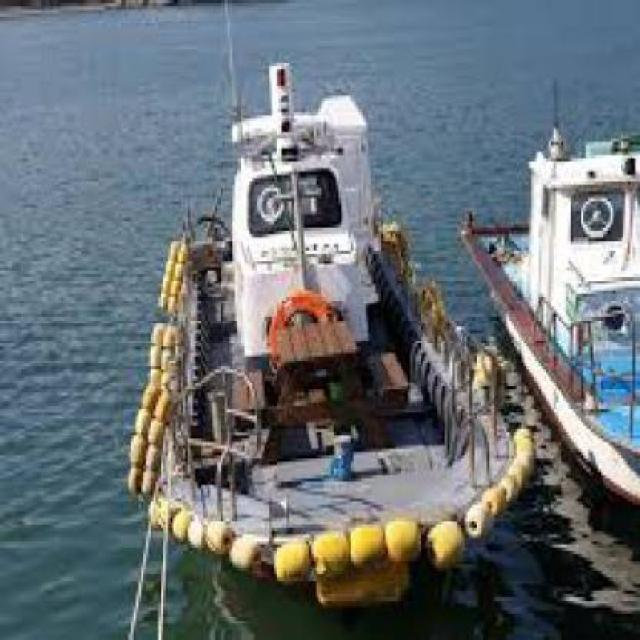fish-b: (117, 40, 554, 611)
